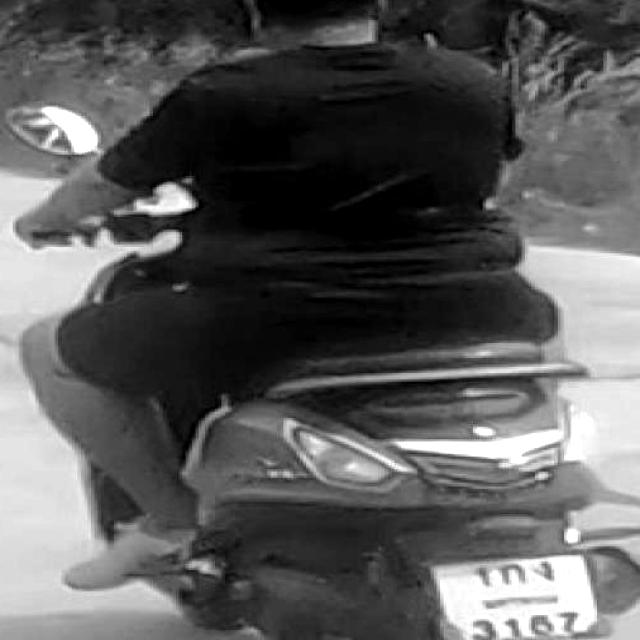letters: (468, 560, 494, 587), (530, 612, 554, 639), (468, 620, 497, 640), (536, 560, 559, 584), (502, 562, 524, 586), (561, 608, 580, 634), (506, 617, 520, 638)
license-plate: (421, 550, 610, 640)
province: (468, 592, 574, 608)
